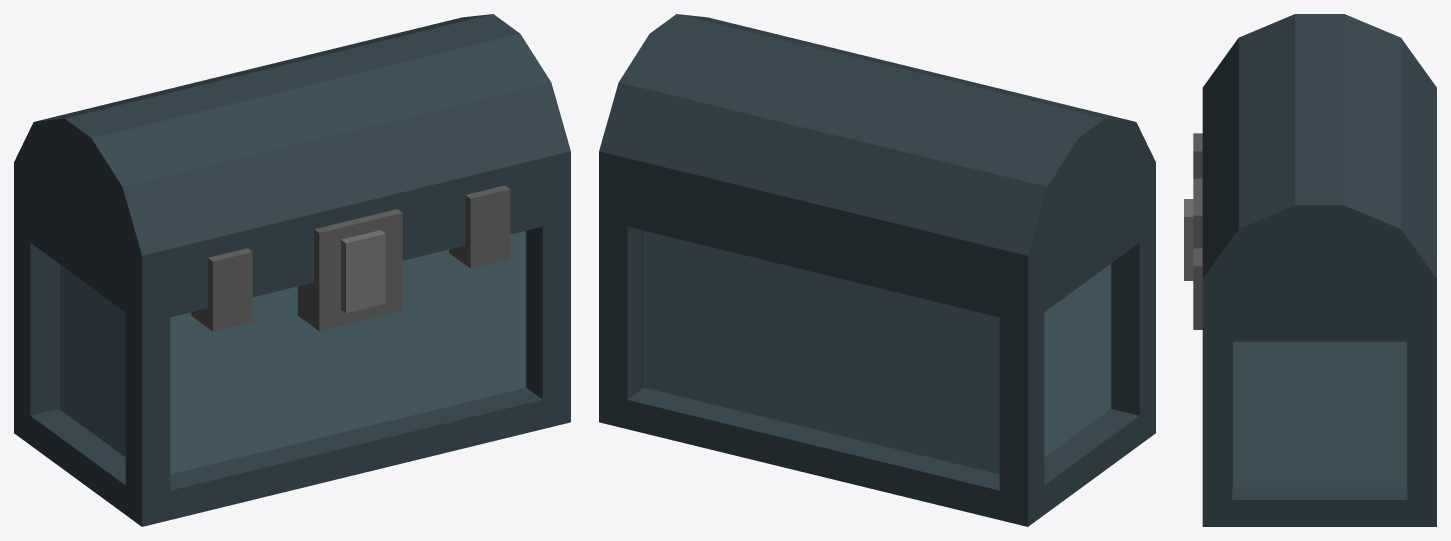
File: Ship_035.glb
The picture shows the model from 3 angles, left to right: view 1: azimuth 30°, elevation 25°; view 2: azimuth 150°, elevation 25°; view 3: azimuth 270°, elevation 25°; orthographic projection. The views are drawn at different scales.
Parts seen in each view (by area): view 1: Ship_035; view 2: Ship_035; view 3: Ship_035.
Boxes of the visible parts, x1,y1,x2,y2 form: Ship_035: (14, 14, 570, 526); Ship_035: (599, 14, 1155, 526); Ship_035: (1184, 14, 1436, 526).
Bounding box in the file's own units: 1.1 × 0.8643 × 0.6159.
1 material, 1 textured.
